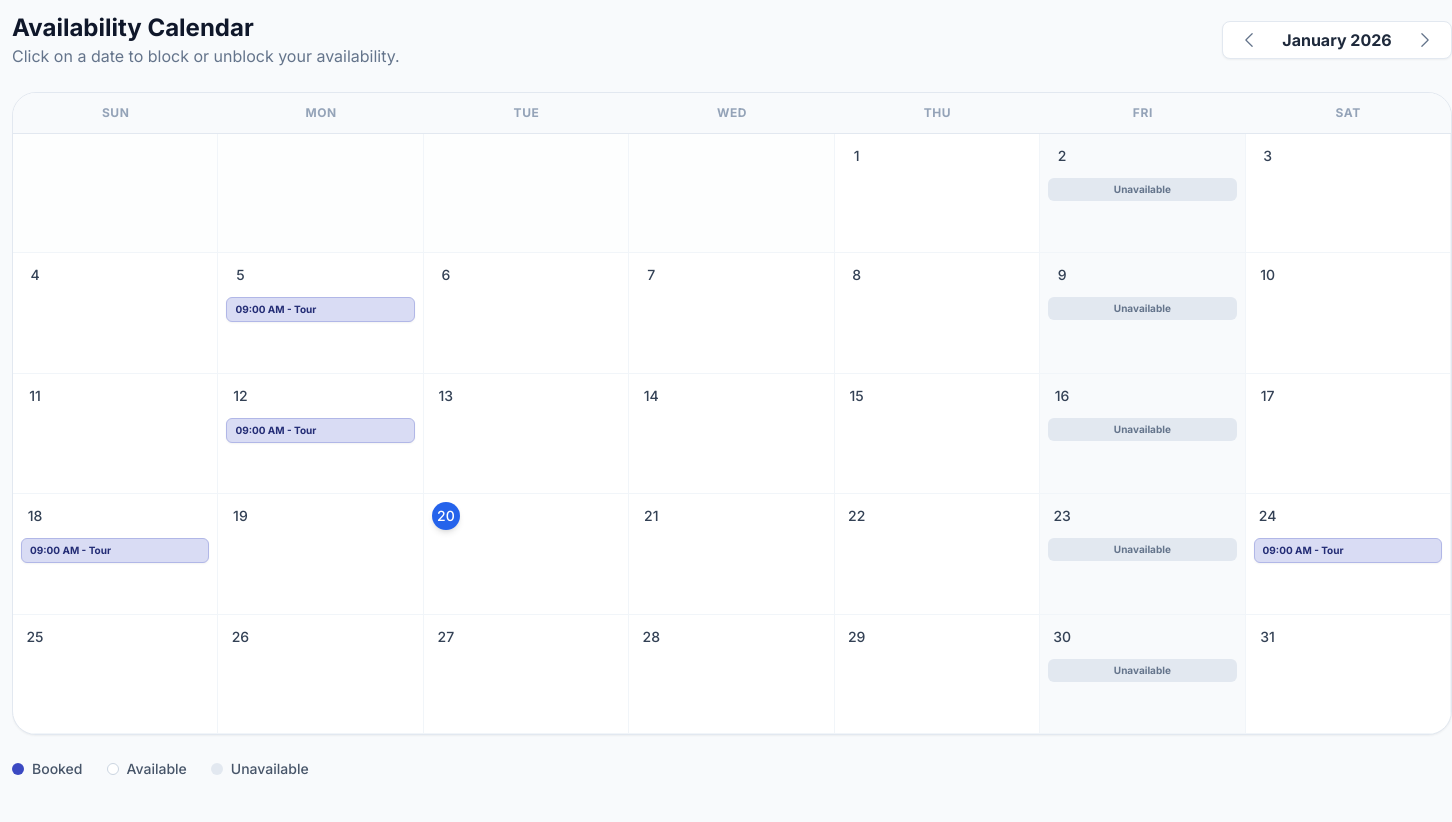
Test: GuideCalendarPage › toggles availability when action button is clicked
Step 1. Click the text "15" → (857, 395), box [850,387,864,404]
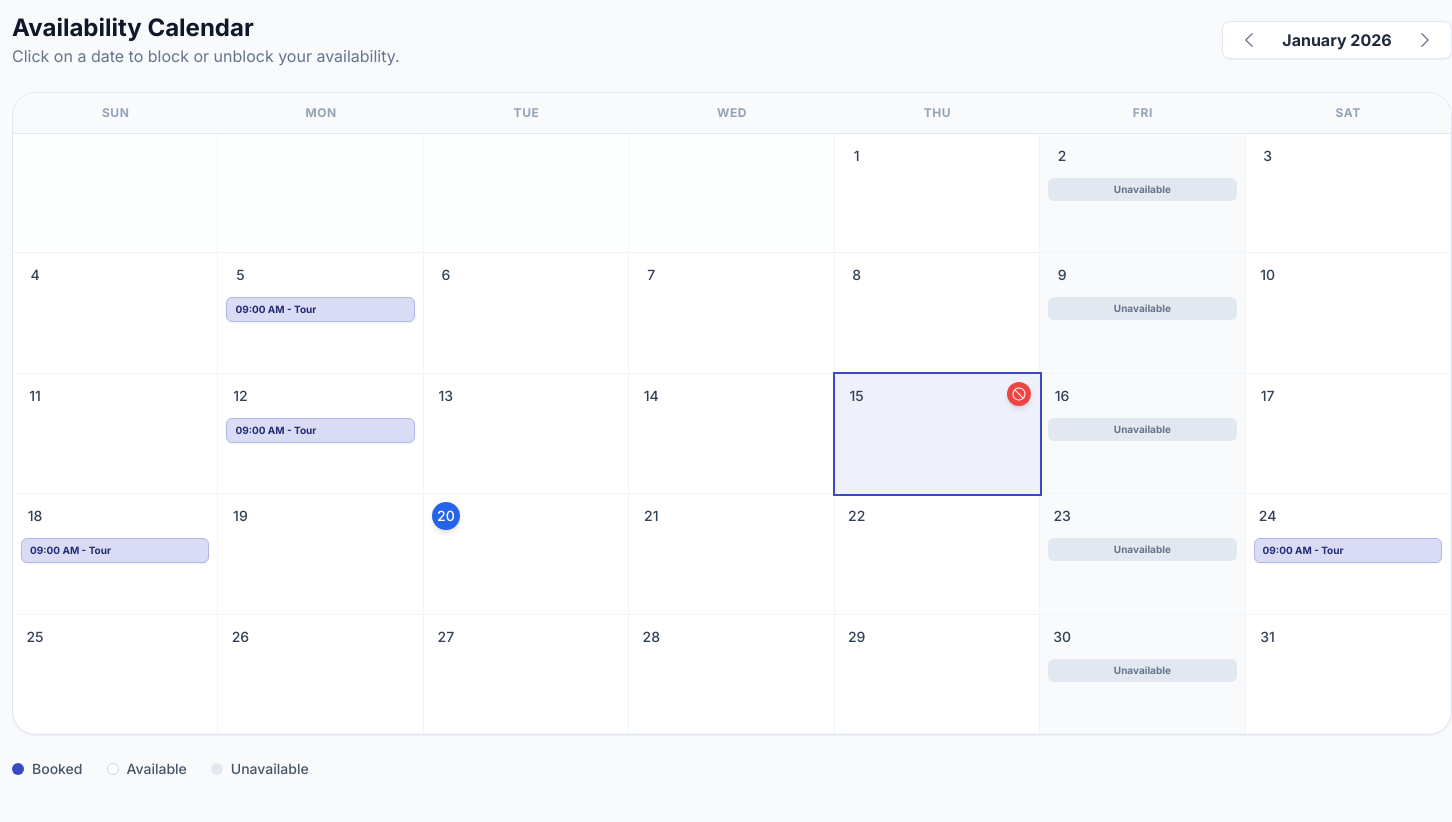
Step 2. Click the button titled "Block Date" → (1019, 394), box [1007,382,1031,406]
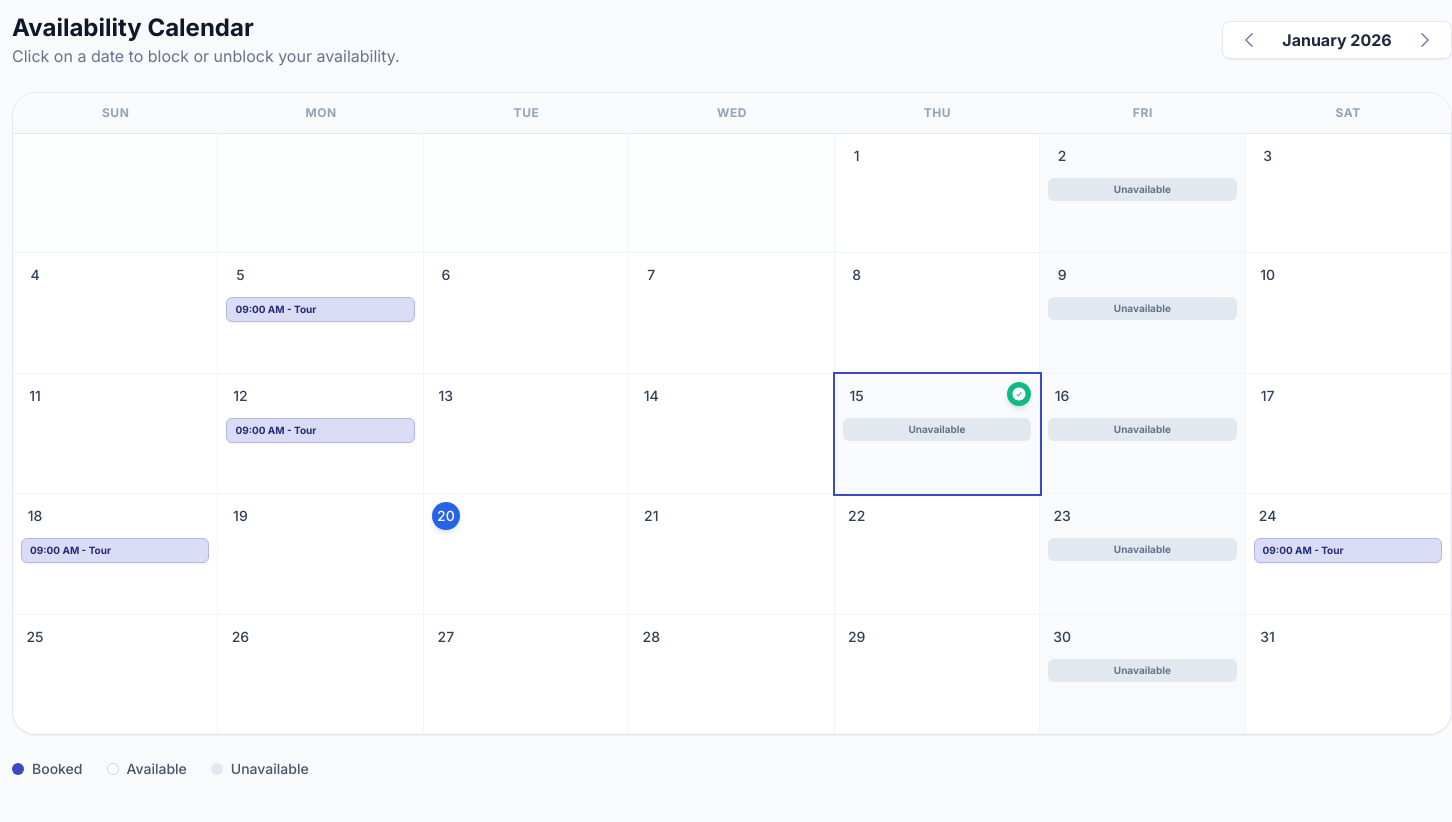
Check: the button titled "Set as Available" is shown, box [1007,382,1031,406]
